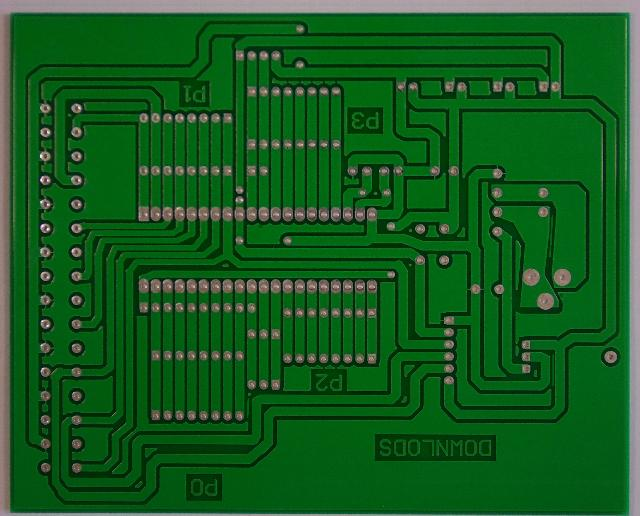spurious_copper: (546, 213, 558, 258), (550, 353, 556, 387), (244, 397, 252, 418)
